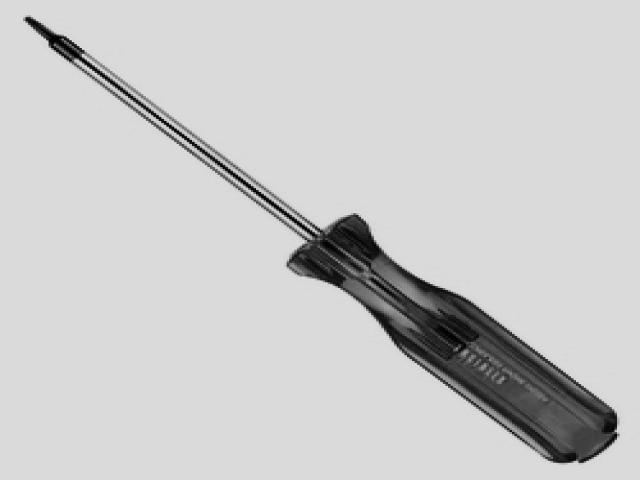Screwdriver: (26, 18, 616, 462)
